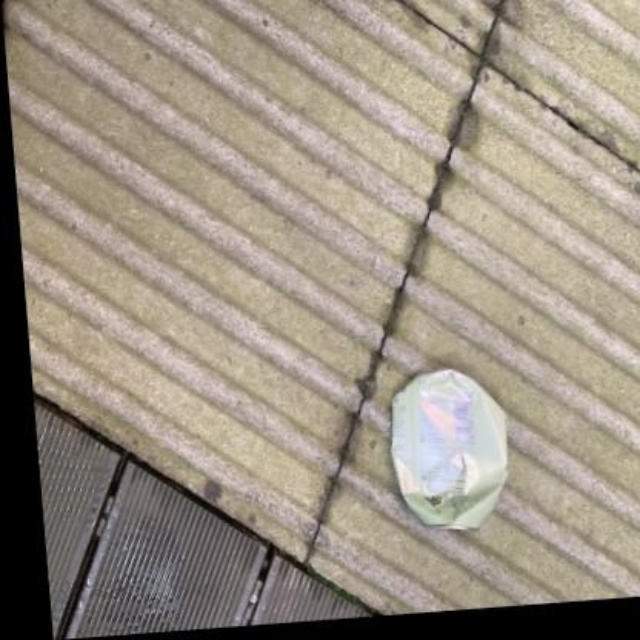trash: (392, 369, 506, 528)
